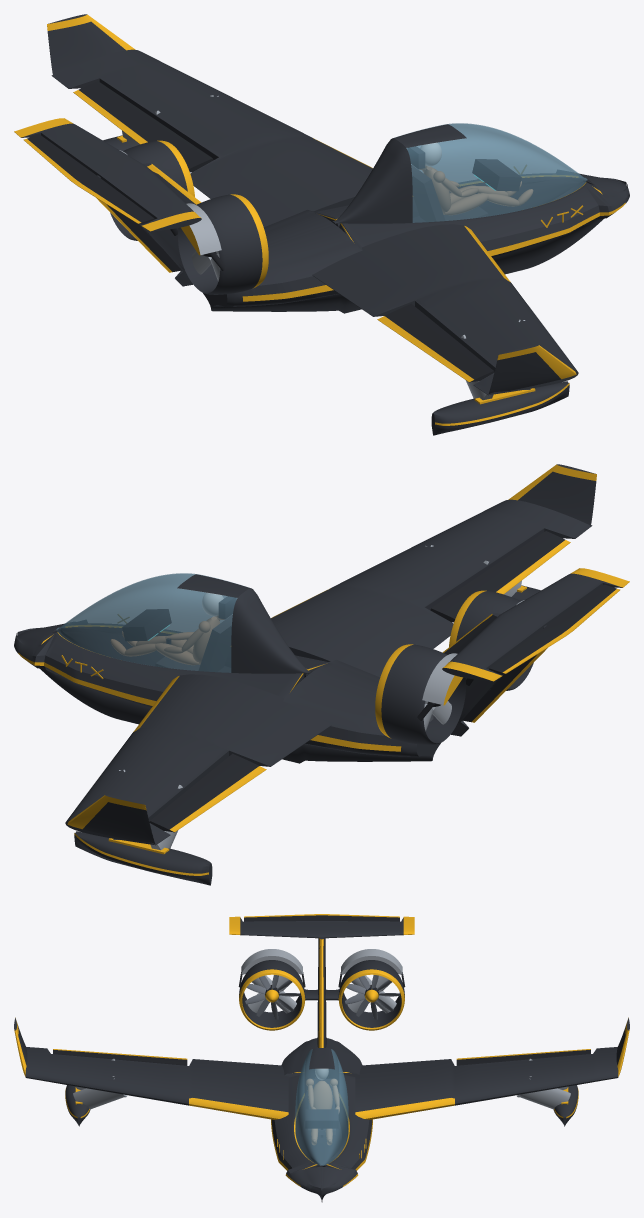
File: C_hardtop__upright_18.glb
The picture shows the model from 3 angles, top to bottom: view 1: azimuth 30°, elevation 25°; view 2: azimuth 150°, elevation 25°; view 3: azimuth 270°, elevation 25°; orthographic projection. The views are drawn at different scales.
Visible parts, largest first — view 1: Ricochet_Wing_Port, Ricochet_ConceptA_Hull_Cabin, Ricochet_Wing_Stbd, Ricochet_Canopy_Glass, Ricochet_Tail_Pylon_T_Tail, Ricochet_Duct_Stbd, Ricochet_Aileron_Port, Ricochet_Aileron_Stbd, Ricochet_Sponson_Stbd, Ricochet_Winglet_Port, Ricochet_Cockpit_Interior, Ricochet_Winglet_Stbd (+5 smaller); view 2: Ricochet_Wing_Stbd, Ricochet_ConceptA_Hull_Cabin, Ricochet_Wing_Port, Ricochet_Canopy_Glass, Ricochet_Tail_Pylon_T_Tail, Ricochet_Duct_Port, Ricochet_Aileron_Stbd, Ricochet_Aileron_Port, Ricochet_Sponson_Port, Ricochet_Winglet_Stbd, Ricochet_Cockpit_Interior, Ricochet_Winglet_Port (+5 smaller); view 3: Ricochet_Wing_Port, Ricochet_Wing_Stbd, Ricochet_ConceptA_Hull_Cabin, Ricochet_Canopy_Glass, Ricochet_Tail_Pylon_T_Tail, Ricochet_Duct_Port, Ricochet_Duct_Stbd, Study_Pilot_Manikin, Ricochet_Elevator, Ricochet_Aileron_Port, Ricochet_Aileron_Stbd, Ricochet_Fan_Rotor_Port (+8 smaller).
Part boxes in pixels (x1,y1,x2,y2): Ricochet_Wing_Port: (51,49,372,227); Ricochet_ConceptA_Hull_Cabin: (203,173,629,313); Ricochet_Wing_Stbd: (312,224,578,395); Ricochet_Canopy_Glass: (332,123,587,223); Ricochet_Tail_Pylon_T_Tail: (14,118,201,286); Ricochet_Duct_Stbd: (178,194,268,294); Ricochet_Aileron_Port: (73,81,213,172); Ricochet_Aileron_Stbd: (377,303,494,382); Ricochet_Sponson_Stbd: (431,381,569,435); Ricochet_Winglet_Port: (47,14,135,75); Ricochet_Cockpit_Interior: (407,146,521,221); Ricochet_Winglet_Stbd: (488,345,576,394); Ricochet_Wing_Stbd: (271,499,592,677); Ricochet_ConceptA_Hull_Cabin: (14,623,440,763); Ricochet_Wing_Port: (65,674,331,845); Ricochet_Canopy_Glass: (56,573,311,673); Ricochet_Tail_Pylon_T_Tail: (442,568,629,736); Ricochet_Duct_Port: (375,644,465,744); Ricochet_Aileron_Stbd: (430,531,570,622); Ricochet_Aileron_Port: (149,753,266,832); Ricochet_Sponson_Port: (74,831,212,885); Ricochet_Winglet_Stbd: (508,464,596,525); Ricochet_Cockpit_Interior: (122,596,236,671); Ricochet_Winglet_Port: (67,795,155,844); Ricochet_Wing_Port: (355,1047,618,1119); Ricochet_Wing_Stbd: (25,1047,288,1119); Ricochet_ConceptA_Hull_Cabin: (271,1038,372,1202); Ricochet_Canopy_Glass: (295,1048,348,1165); Ricochet_Tail_Pylon_T_Tail: (229,916,414,1047); Ricochet_Duct_Port: (338,960,404,1030); Ricochet_Duct_Stbd: (239,960,305,1030); Study_Pilot_Manikin: (306,1068,339,1144); Ricochet_Elevator: (244,914,399,921); Ricochet_Aileron_Port: (456,1049,590,1065); Ricochet_Aileron_Stbd: (53,1049,187,1065); Ricochet_Fan_Rotor_Port: (345,975,399,1019).
Size of the model in its own units: 6.78 by 2.34 by 9.64.
